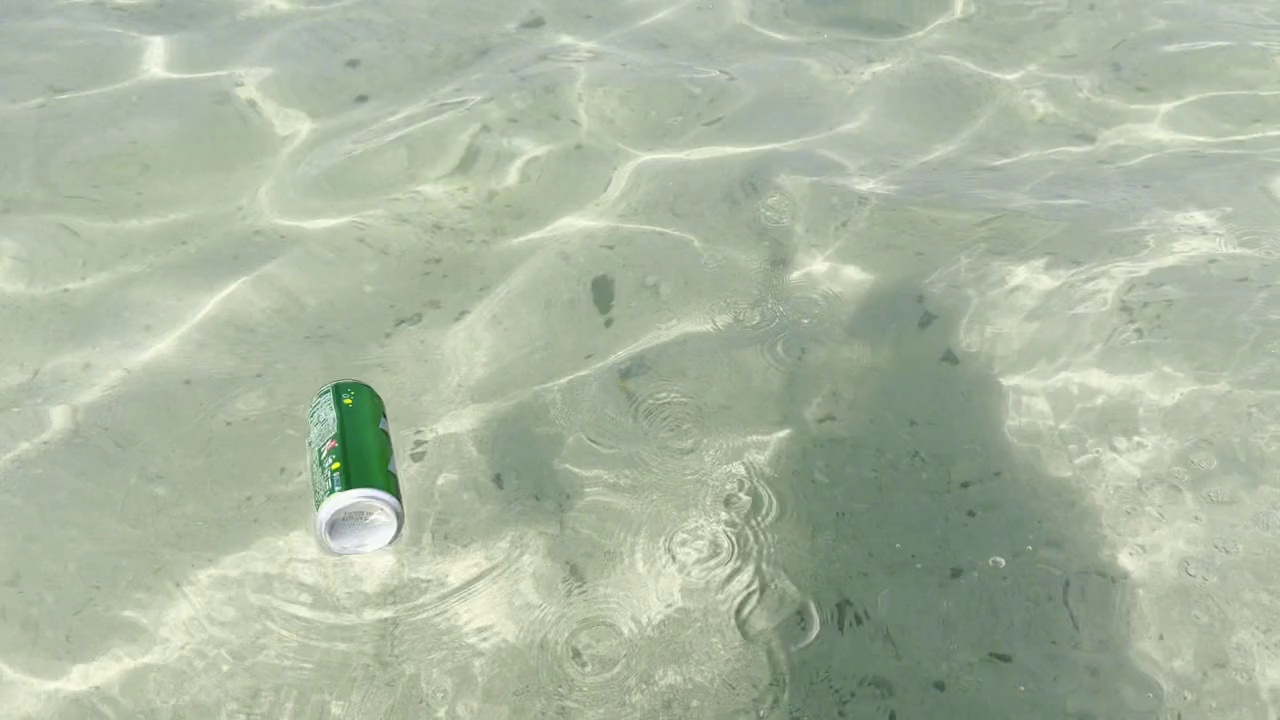debris: (278, 375, 411, 566)
